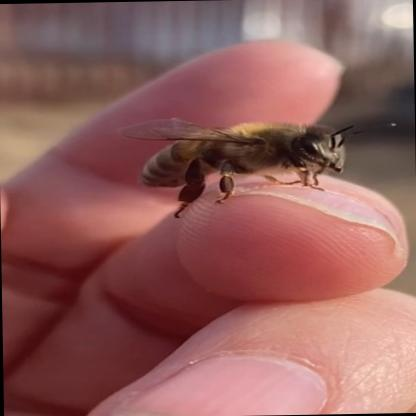bee: (107, 86, 416, 236)
